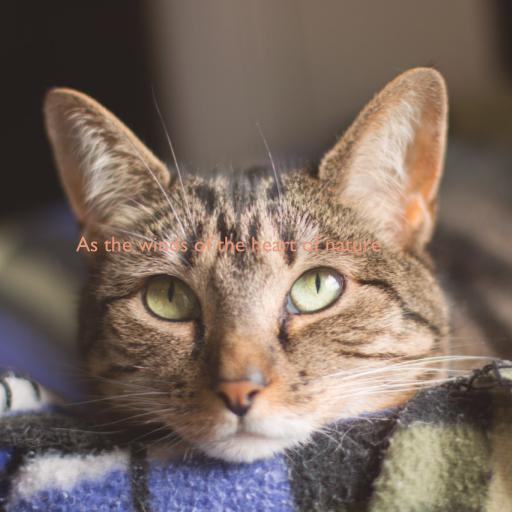Gill Sans: (75, 236, 381, 252)
